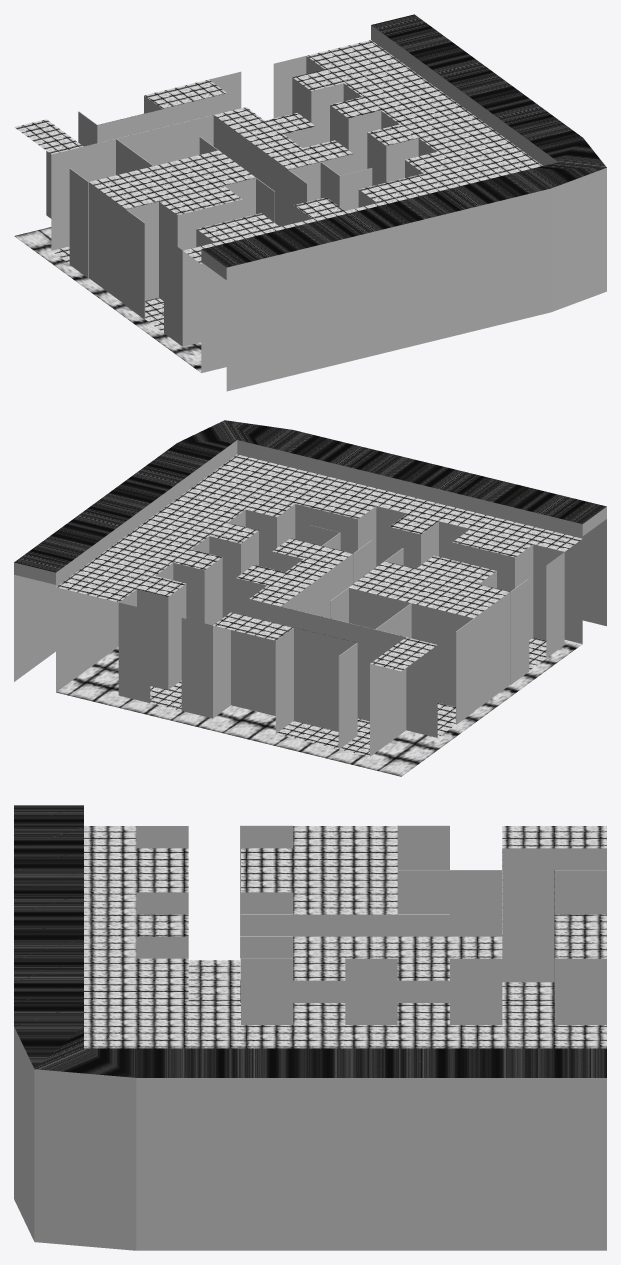
File: hopital4 .fbx
3 renders of one model, top to bottom at view 1: azimuth 30°, elevation 25°; view 2: azimuth 150°, elevation 25°; view 3: azimuth 270°, elevation 25°, orthographic. The views are drawn at different scales.
Visible parts, largest first — view 1: Cube.003; view 2: Cube.003; view 3: Cube.003.
Boxes of the visible parts, x1,y1,x2,y2 form: Cube.003: (14,14,606,391); Cube.003: (14,420,606,776); Cube.003: (14,805,606,1250).
Size of the model in its own units: 1051 by 310 by 964.
